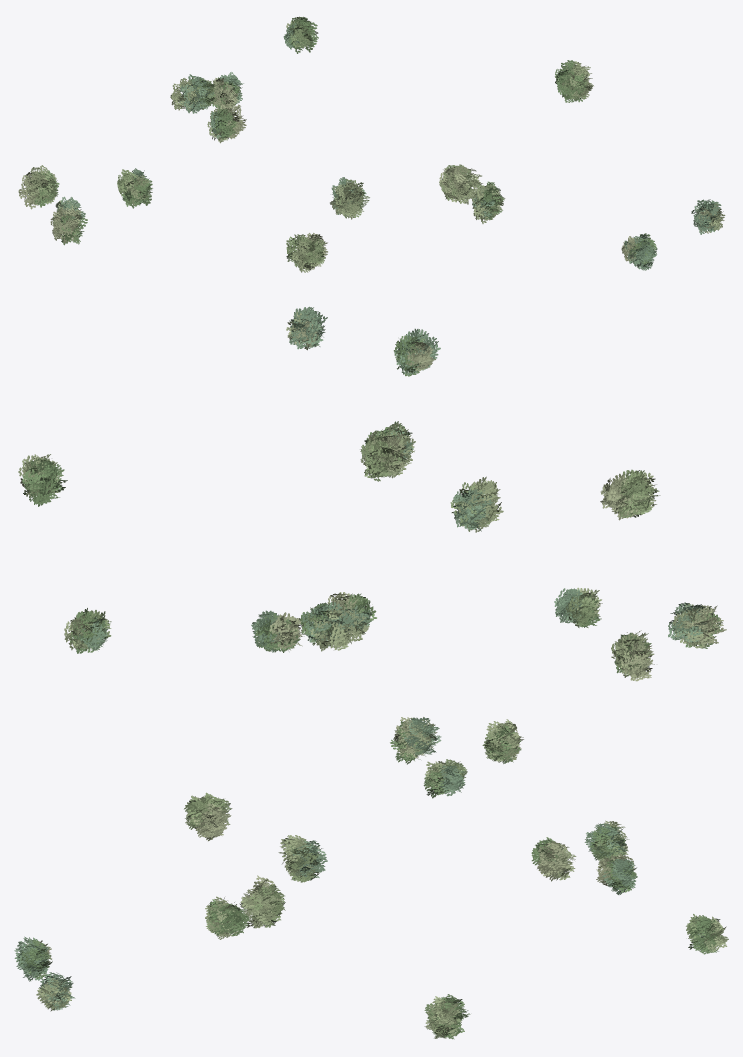
The model's file is campus-tree--1_-2-middle-photo.glb.
3 views of the same model, one above another, from view 1: azimuth 30°, elevation 25°; view 2: azimuth 150°, elevation 25°; view 3: azimuth 270°, elevation 25° (orthographic). The views are drawn at different scales.
Parts seen in each view (by area): view 1: Campus leaf canopy; view 2: Campus leaf canopy; view 3: Campus leaf canopy.
Boxes of the visible parts, box(x1,y1,x2,y2) form: Campus leaf canopy: box(18, 16, 725, 272); Campus leaf canopy: box(18, 306, 726, 681); Campus leaf canopy: box(14, 717, 728, 1039).
Bounding box in the file's own units: 80.72 × 7.3 × 80.48.
Materials: 1 (1 with a texture image).
